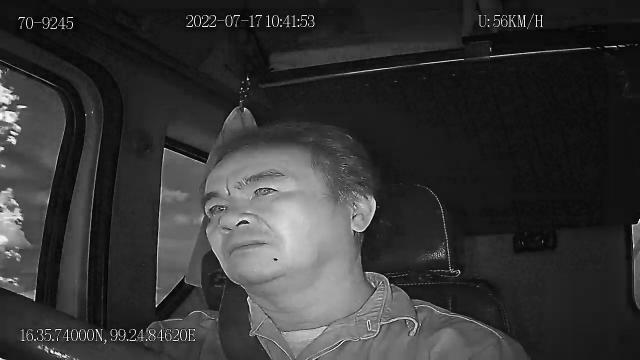SafeDriving: (247, 177, 287, 205), (202, 195, 234, 221)
Seatbelt: (216, 274, 274, 360)
